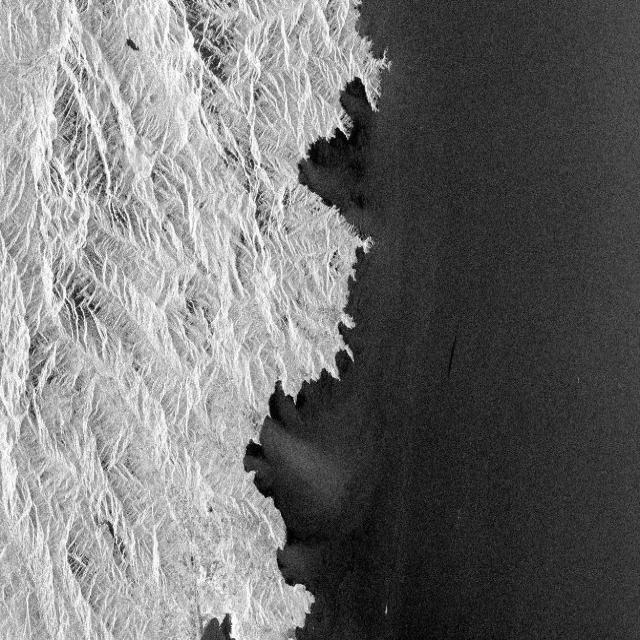look-alike: (319, 112, 374, 208), (264, 479, 290, 512), (268, 396, 283, 430), (248, 441, 266, 460), (284, 530, 299, 548)
oil-spill: (446, 322, 462, 391)
